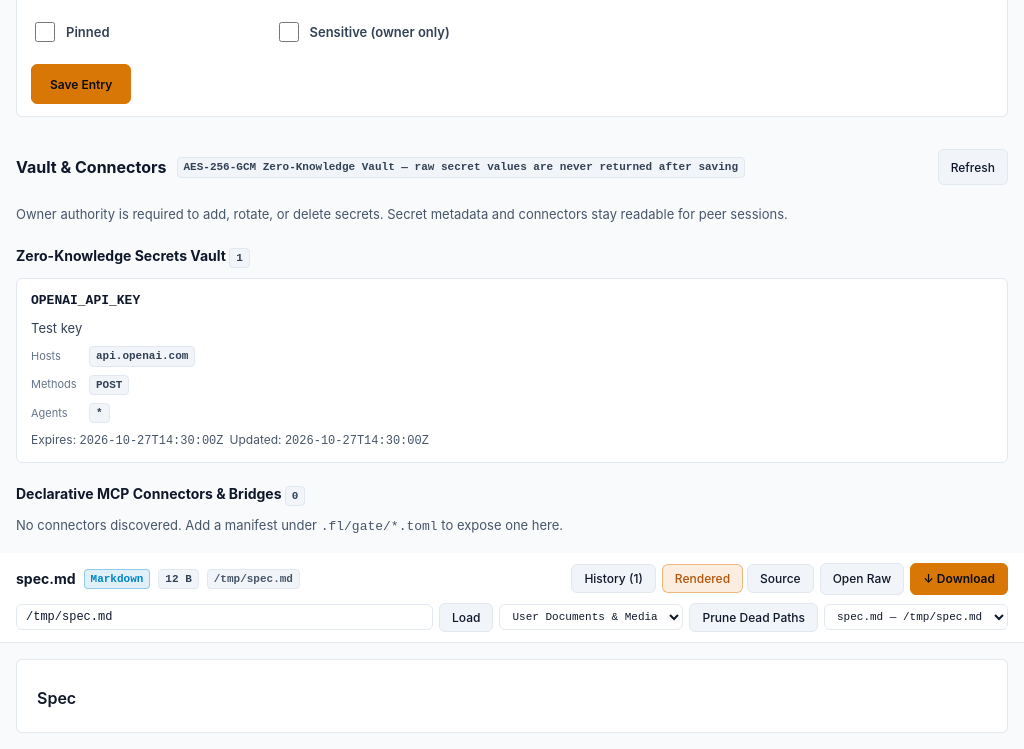
Test: TimeZone option & timestamp formatting across FerroDeck+ › updates displayed timestamps in TurnCard, WireMailPane, FerroStatePane, VaultGatePane, and ArtifactPreviewPane when active timezone changes
The image size is (1024, 749).
(page scrolled)
// Open ArtifactPreviewPane version history
Click the button with test id "artifact-history-toggle".
click(614, 579)  # box 571,564 -> 656,594
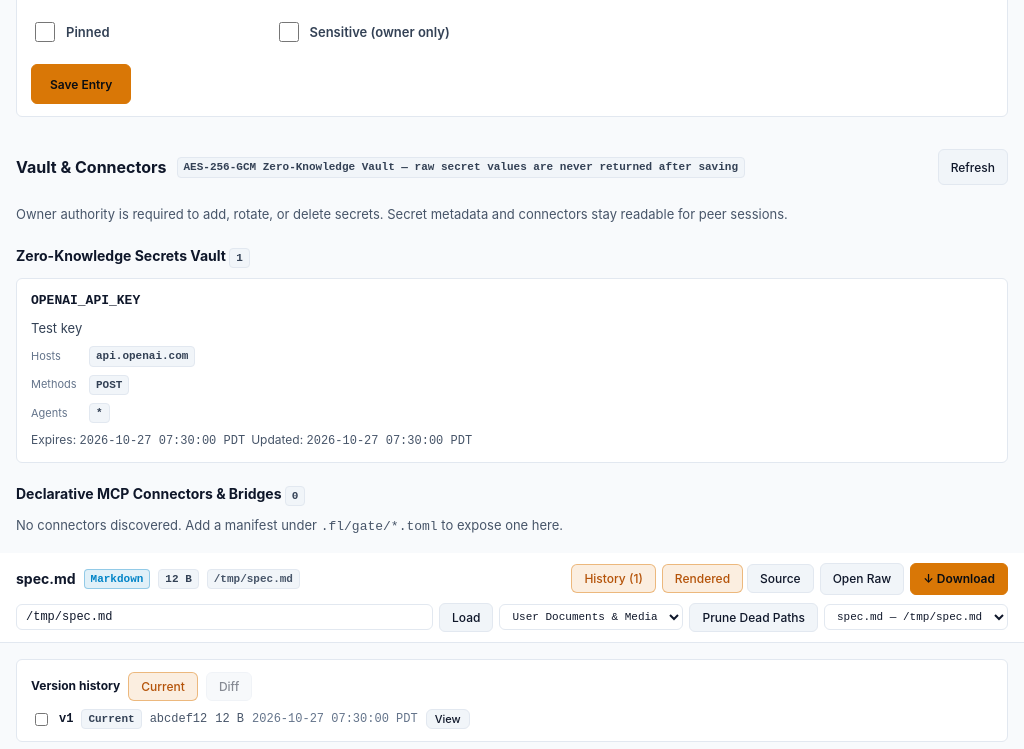
Now the text "2026-10-27 14:30:00 UTC" in the row of "abcdef12" is shown, box 252,710 -> 418,728
